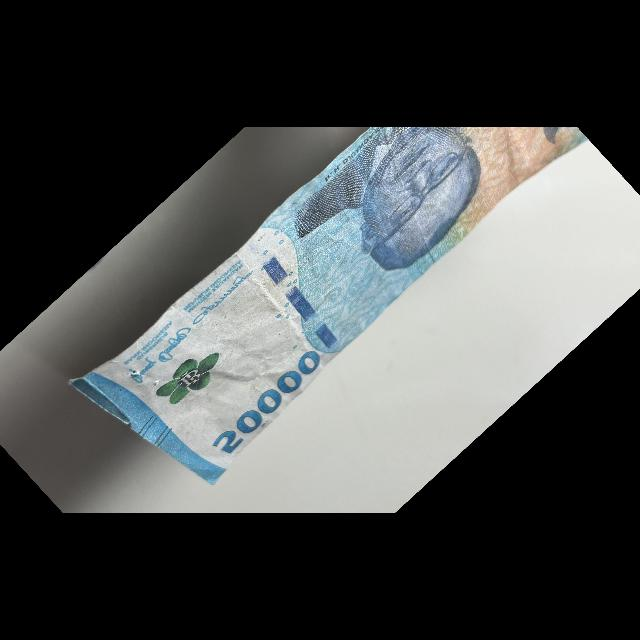Palsu-50k: (63, 5, 590, 516)
Tinta-Palsu-50k: (151, 336, 230, 417)
